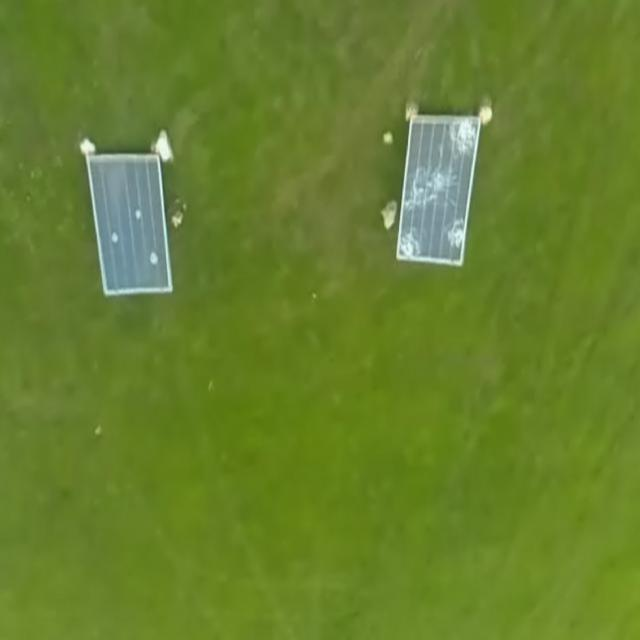faulty: (394, 108, 479, 266), (86, 156, 176, 300)
